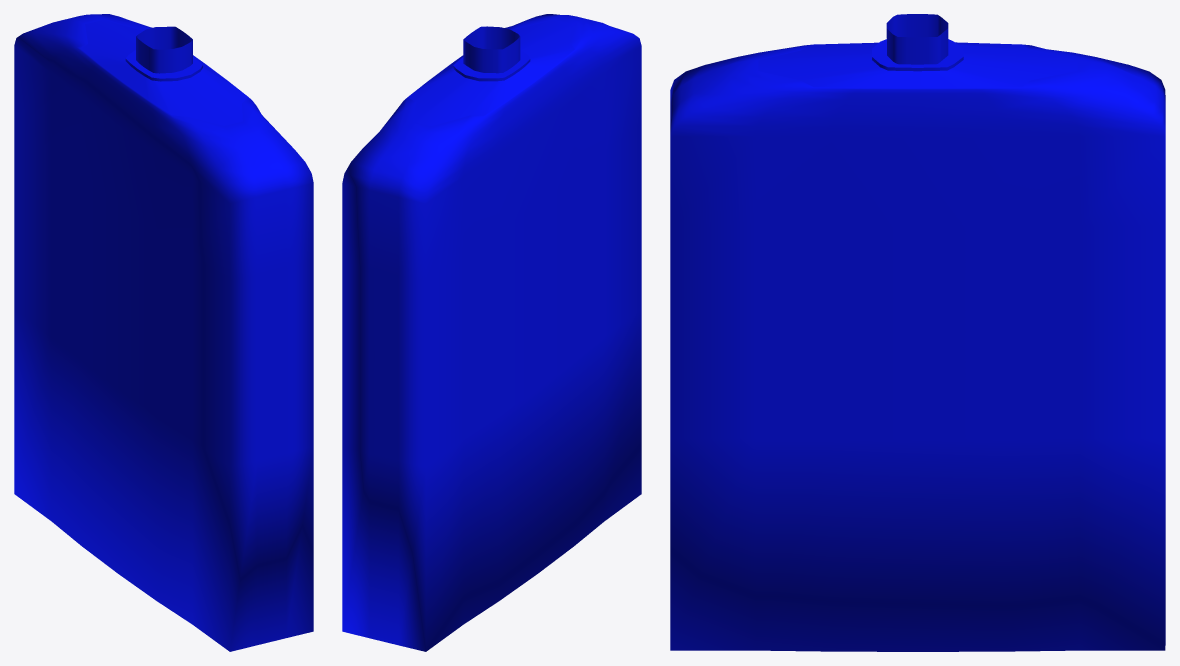
The model's file is 2 ML Body 1.FBX.
3 renders of one model, left to right at view 1: azimuth 30°, elevation 25°; view 2: azimuth 150°, elevation 25°; view 3: azimuth 270°, elevation 25°, orthographic. The views are drawn at different scales.
Parts seen in each view (by area): view 1: 2_ML_Bottle_Body; view 2: 2_ML_Bottle_Body; view 3: 2_ML_Bottle_Body.
Part boxes in pixels (x1=…): 2_ML_Bottle_Body: x1=14, y1=14, x2=313, y2=651; 2_ML_Bottle_Body: x1=342, y1=14, x2=641, y2=651; 2_ML_Bottle_Body: x1=670, y1=14, x2=1165, y2=651.
Bounding box in the file's own units: 2.36 × 13.21 × 9.85.
